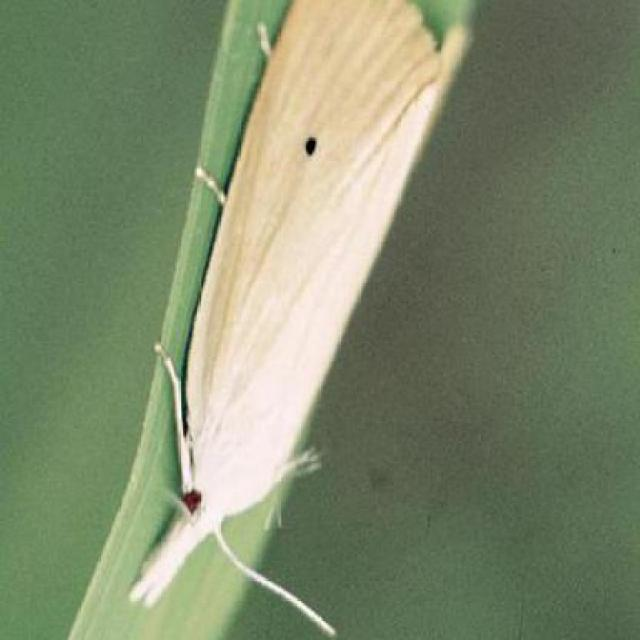stem-borer: (120, 0, 477, 615)
